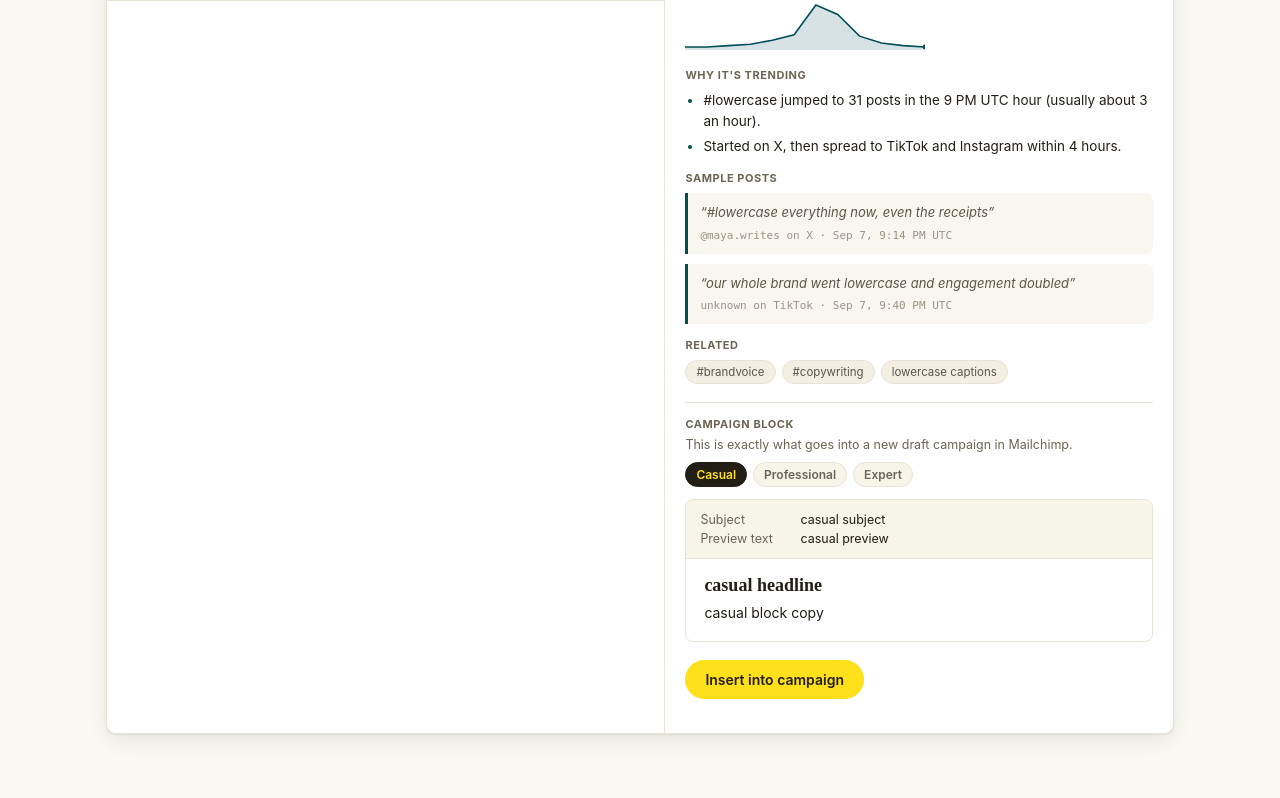
insert into campaign: Mailchimp unreachable
The width and height of the screenshot is (1280, 798).
(page scrolled)
What coordinates should you click on to do the following:
click the button "Insert into campaign"
I would click on:
 (775, 680)
Its box is [685, 660, 864, 699].
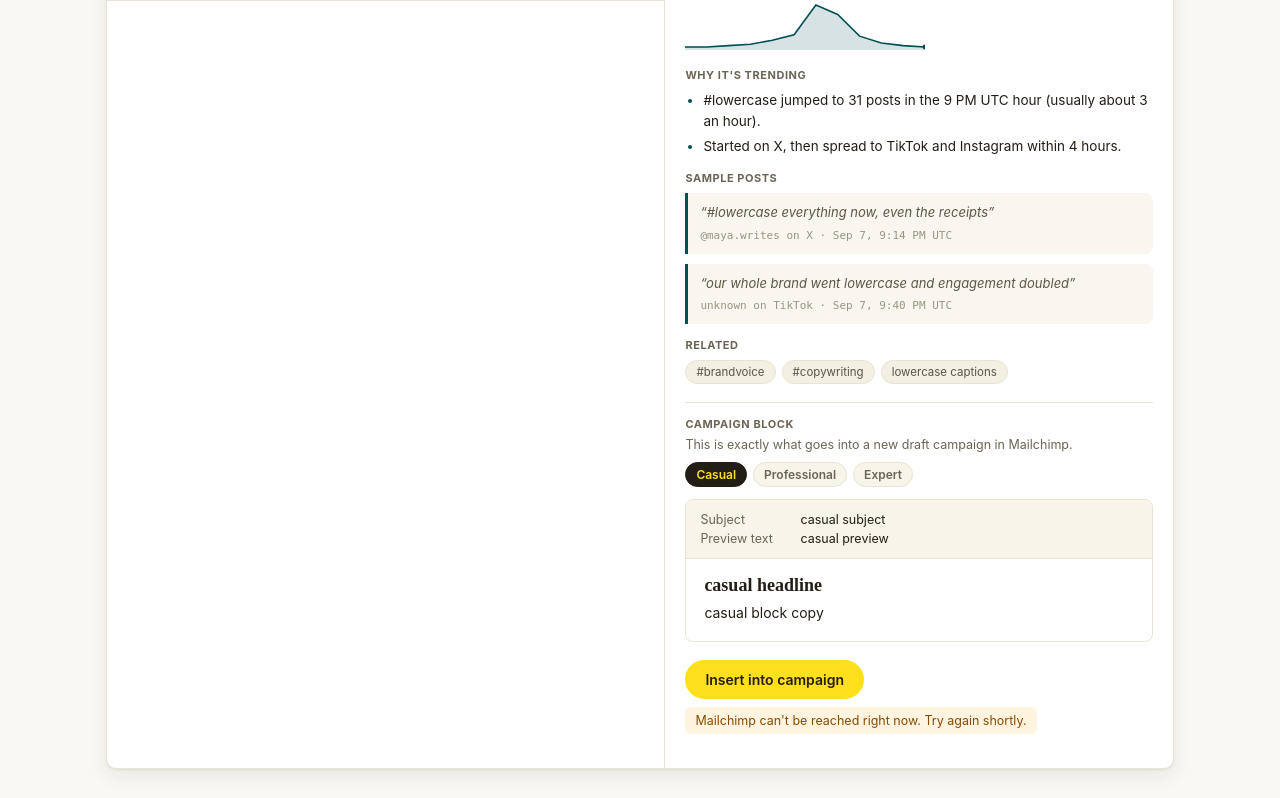
Check: the message reads "Mailchimp can't be reached right now. Try again shortly.", box [695, 713, 1026, 728]
